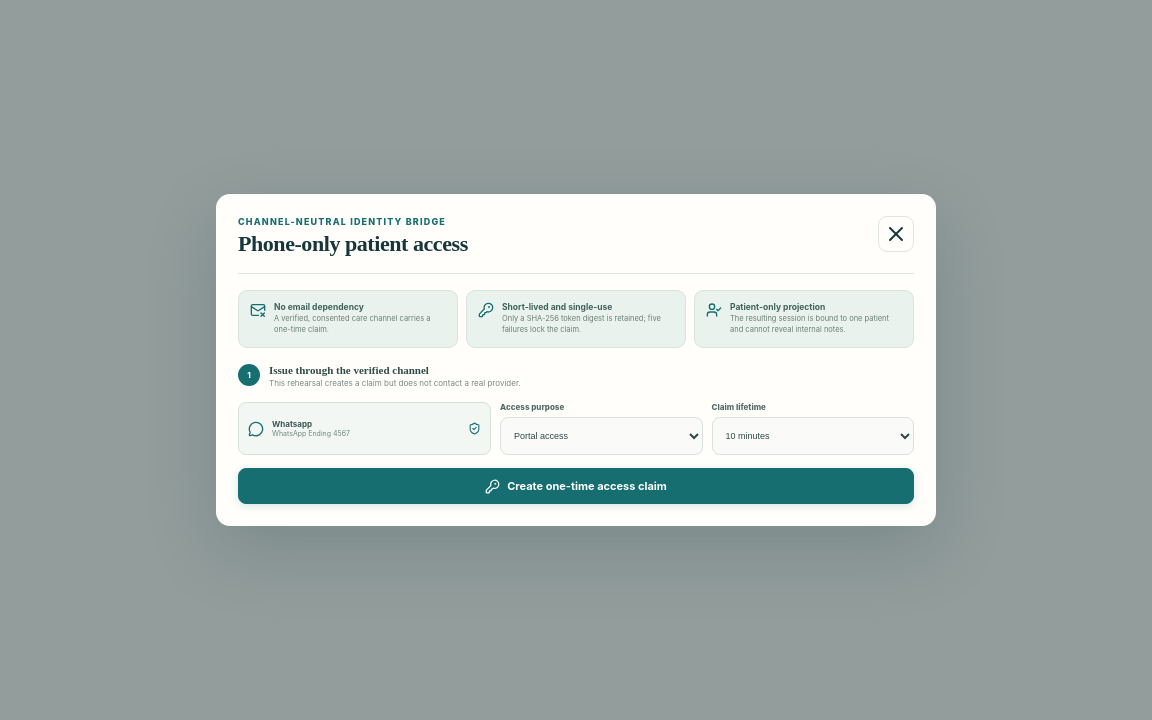
opaque redemption errors use the generic message
Click the button "Create one-time access claim" at (576,486), box [238,468,914,504]
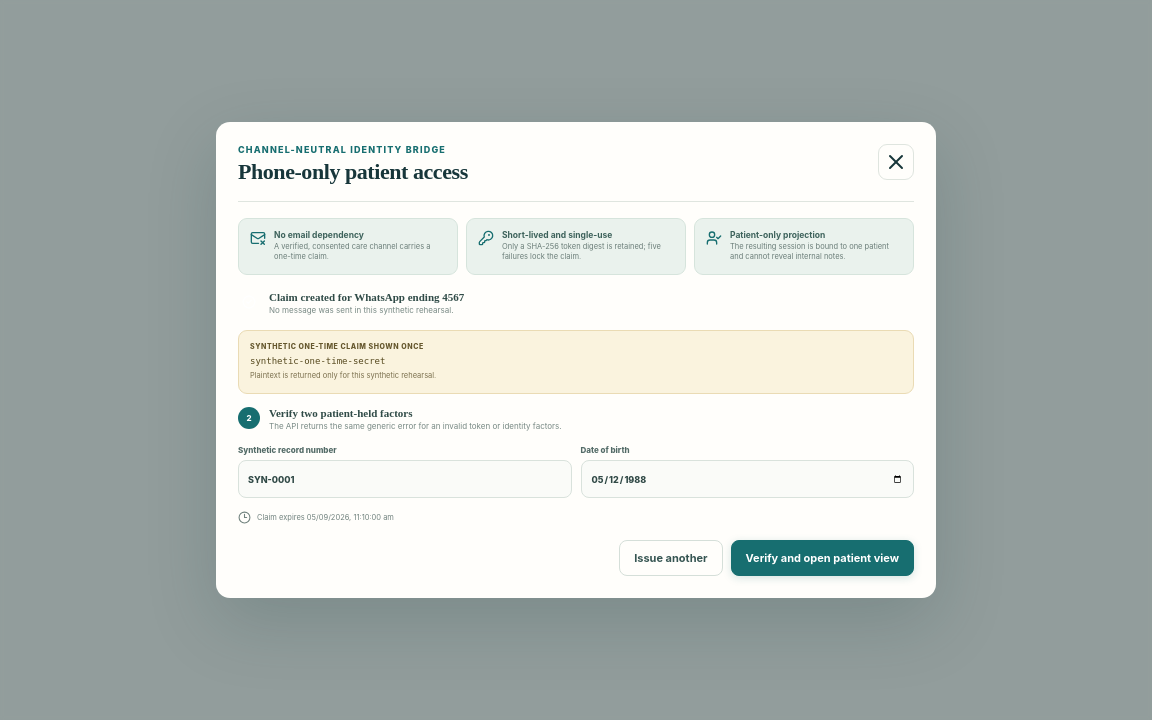
expect the text "synthetic-one-time-secret" is shown: met, box [250,356,386,366]
Click the button "Verify and open patient view" at (822,558), box [730,540,914,576]
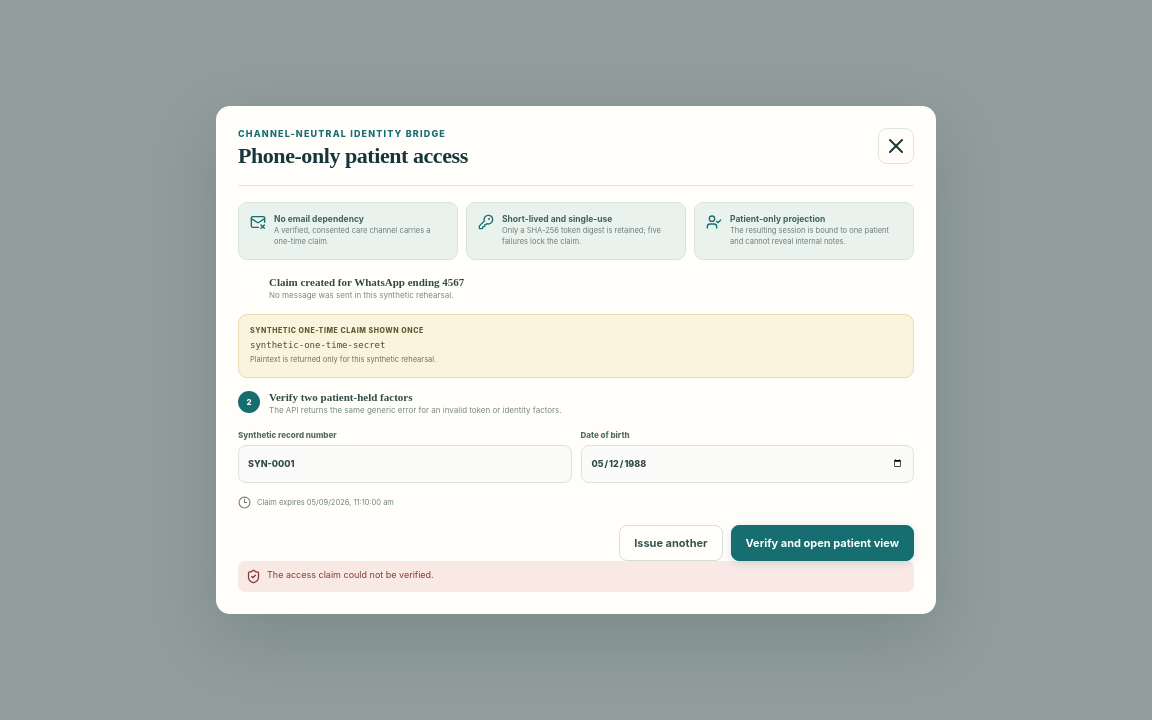
expect the message reads "The access claim could not be verified.": met, box [267,569,434,580]
